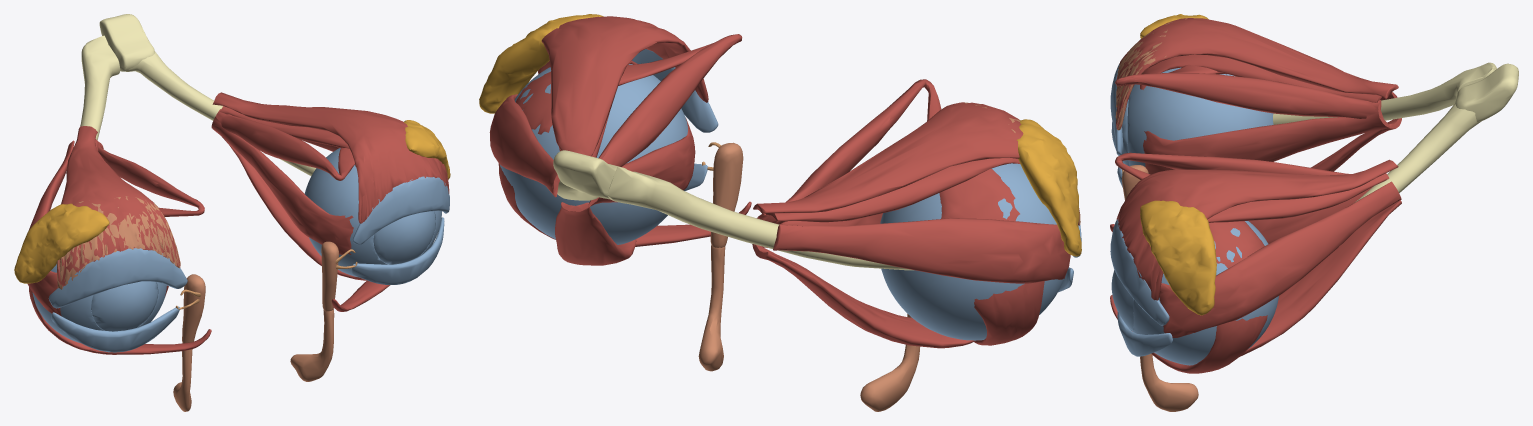
Rendered from mata.glb.
The picture shows the model from 3 angles, left to right: view 1: azimuth 30°, elevation 25°; view 2: azimuth 150°, elevation 25°; view 3: azimuth 270°, elevation 25°; orthographic projection. The views are drawn at different scales.
Visible parts, largest first — view 1: Left levator palpebrae superioris, Right levator palpebrae superioris, Right lacrimal gland, Left medial rectus, Tarsal plate of right upper eyelid, Left sclera, Left superior oblique, Tendon of right levator palpebrae superioris, Tarsal plate of left upper eyelid, Right cornea, Right optic nerve, Left cornea (+16 smaller); view 2: Right lateral rectus, Left levator palpebrae superioris, Right levator palpebrae superioris, Right sclera, Left sclera, Left superior oblique, Right superior oblique, Right optic nerve, Right lacrimal gland, Right inferior rectus, Right superior rectus, Left lateral rectus (+11 smaller); view 3: Left lateral rectus, Left levator palpebrae superioris, Right levator palpebrae superioris, Right superior oblique, Right medial rectus, Left lacrimal gland, Right sclera, Left superior oblique, Left inferior rectus, Left sclera, Left optic nerve, Right optic nerve (+14 smaller).
Part boxes in pixels (x1,y1,x2,y2): Left levator palpebrae superioris: (212, 92, 449, 223); Right levator palpebrae superioris: (56, 126, 180, 286); Right lacrimal gland: (14, 203, 109, 283); Left medial rectus: (211, 115, 353, 254); Tarsal plate of right upper eyelid: (48, 248, 187, 308); Left sclera: (304, 148, 441, 277); Left superior oblique: (216, 109, 354, 180); Tendon of right levator palpebrae superioris: (57, 196, 180, 289); Tarsal plate of left upper eyelid: (352, 176, 449, 244); Right cornea: (91, 281, 157, 331); Right optic nerve: (80, 35, 120, 140); Left cornea: (373, 211, 435, 264); Right lateral rectus: (773, 218, 1070, 283); Left levator palpebrae superioris: (538, 16, 708, 156); Right levator palpebrae superioris: (753, 102, 1080, 225); Right sclera: (880, 163, 1063, 340); Left sclera: (500, 64, 687, 244); Left superior oblique: (516, 34, 742, 166); Right superior oblique: (758, 79, 1019, 224); Right optic nerve: (607, 167, 913, 270); Right lacrimal gland: (1017, 119, 1081, 256); Right inferior rectus: (753, 244, 975, 348); Right superior rectus: (765, 158, 1020, 222); Left lateral rectus: (489, 94, 559, 197); Left lateral rectus: (1159, 181, 1401, 337); Left levator palpebrae superioris: (1116, 159, 1398, 300); Right levator palpebrae superioris: (1116, 18, 1398, 129); Right superior oblique: (1115, 64, 1381, 118); Right medial rectus: (1143, 107, 1389, 174); Left lacrimal gland: (1140, 200, 1216, 315); Right sclera: (1127, 67, 1273, 173); Left superior oblique: (1115, 152, 1351, 268); Left inferior rectus: (1158, 200, 1401, 359); Left sclera: (1133, 221, 1278, 365); Left optic nerve: (1355, 103, 1481, 202); Right optic nerve: (1273, 62, 1497, 124).
Bounding box in the file's own units: 2 × 1.19 × 1.4.
